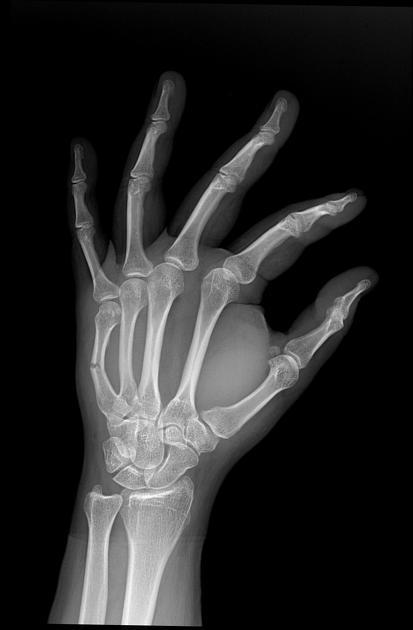fractured: (85, 361, 105, 372)
